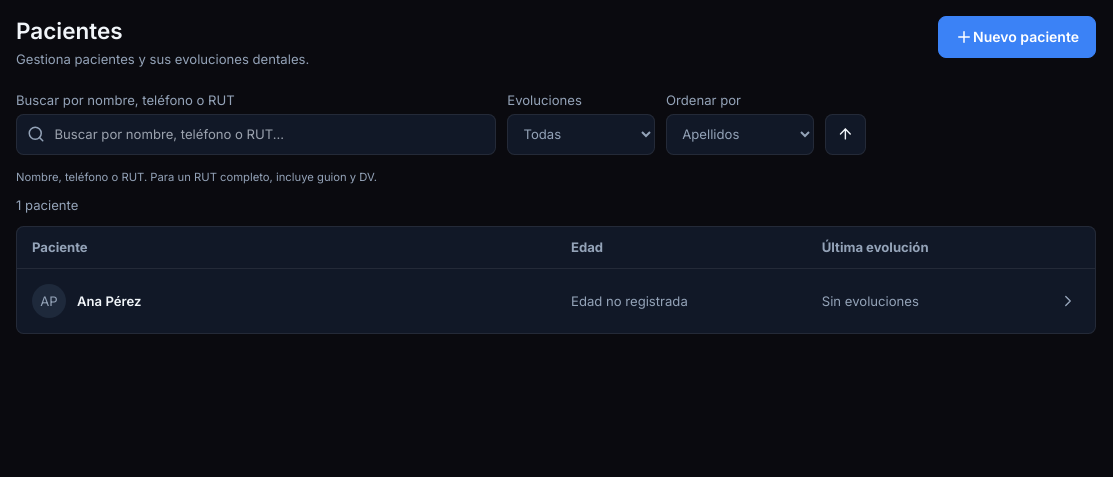
Scenario: Patients birth-date dialog › keeps stale links usable on failure and retries without losing query
The width and height of the screenshot is (1113, 477).
Check: the link "AP Ana Pérez" is shown, box [32, 284, 141, 318]
Type "123" into the field labelled "Buscar por nombre, teléfono o RUT" at [256, 134], box [16, 114, 496, 155]
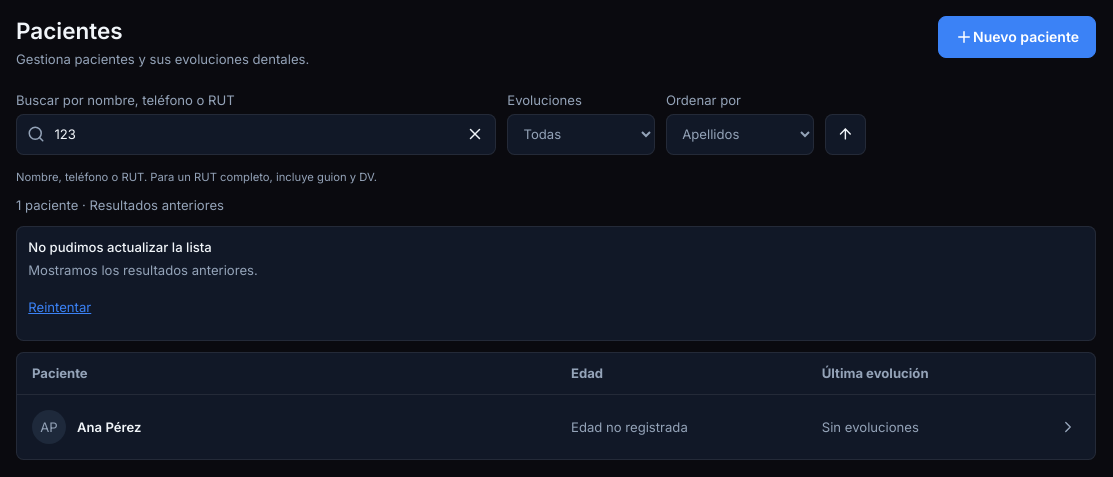
Check: the text "No pudimos actualizar la lista" is shown, box [28, 239, 212, 255]
Check: the text "1 paciente · Resultados anteriores" is shown, box [16, 197, 224, 213]
Click the button "Reintentar" at [60, 308], box [28, 287, 91, 328]
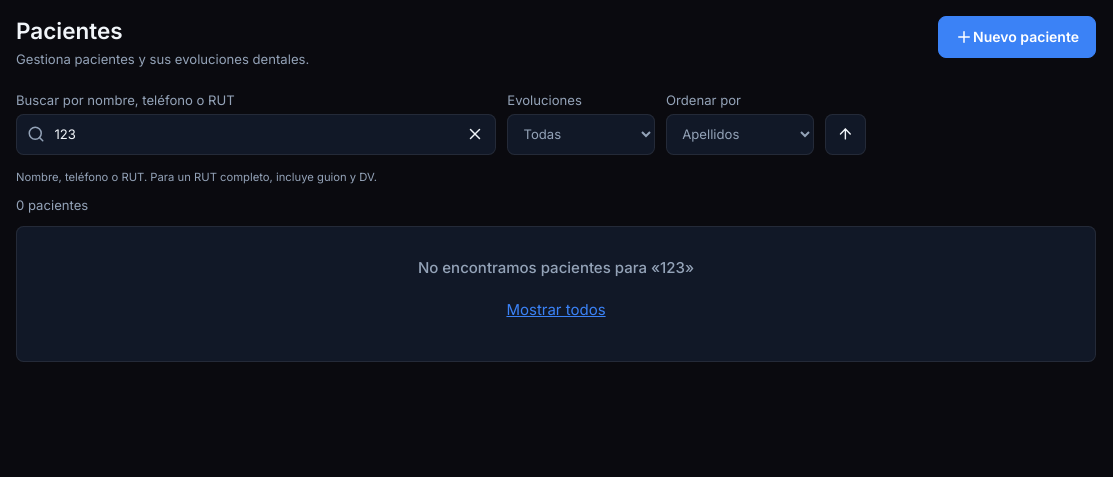
Check: the text "No encontramos pacientes para «123»" is shown, box [418, 258, 694, 277]
